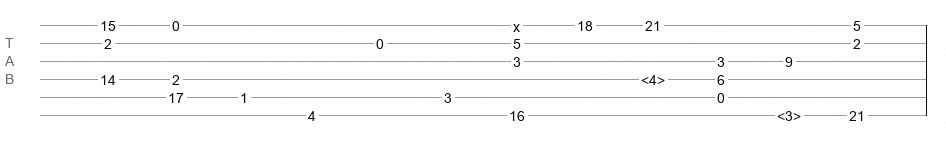0: (172, 18, 180, 28), (376, 36, 384, 46), (717, 90, 725, 100)
1: (240, 90, 248, 100)
14: (100, 72, 116, 82)
15: (100, 18, 116, 28)
16: (509, 108, 525, 118)
17: (168, 90, 184, 100)
18: (577, 18, 593, 28)
2: (104, 36, 112, 46), (172, 72, 180, 82), (853, 36, 861, 46)
21: (645, 18, 661, 28), (849, 108, 865, 118)
3: (444, 90, 452, 100), (513, 54, 521, 64), (717, 54, 725, 64)
4: (308, 108, 316, 118)
5: (513, 36, 521, 46), (853, 18, 861, 28)
6: (717, 72, 725, 82)
9: (785, 54, 793, 64)
harmonic: (641, 72, 665, 82), (777, 108, 801, 118)
x: (513, 19, 520, 27)
